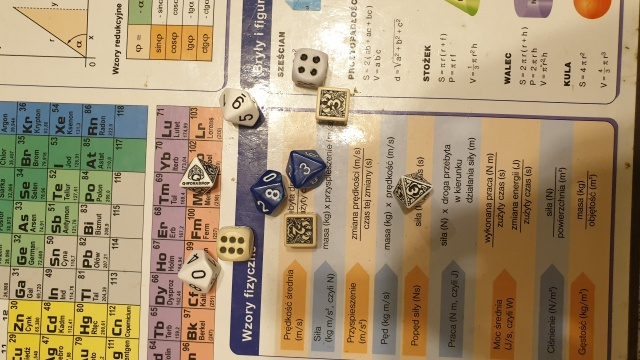d10-10: (175, 247, 221, 294)
d10-3: (283, 145, 328, 194)
d10-8: (250, 166, 286, 216)
d10-9: (217, 86, 261, 131)
d6-4: (291, 45, 326, 85)
d6-6: (214, 225, 253, 262)
d6p-2: (283, 211, 318, 250)
d6p-3: (314, 86, 350, 122)
d8p-3: (390, 172, 435, 211)
d8p-8: (178, 157, 220, 197)
